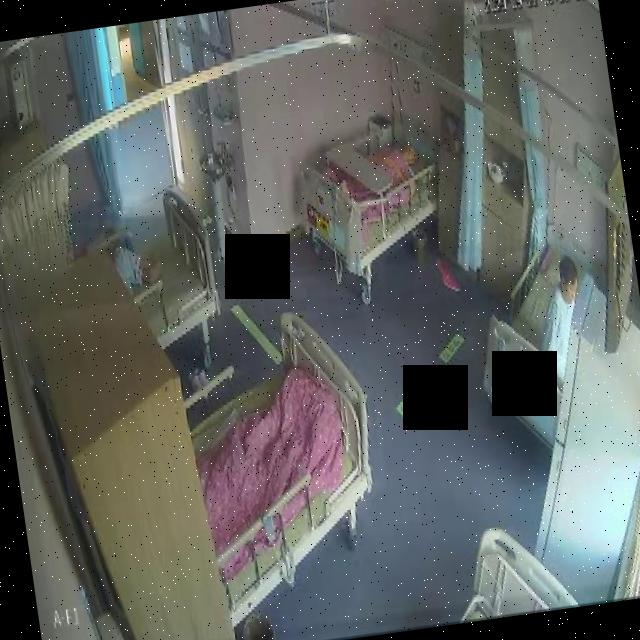bed: (174, 304, 390, 592), (276, 97, 454, 306), (465, 241, 610, 458), (106, 183, 226, 355)
patient: (520, 245, 588, 385)
